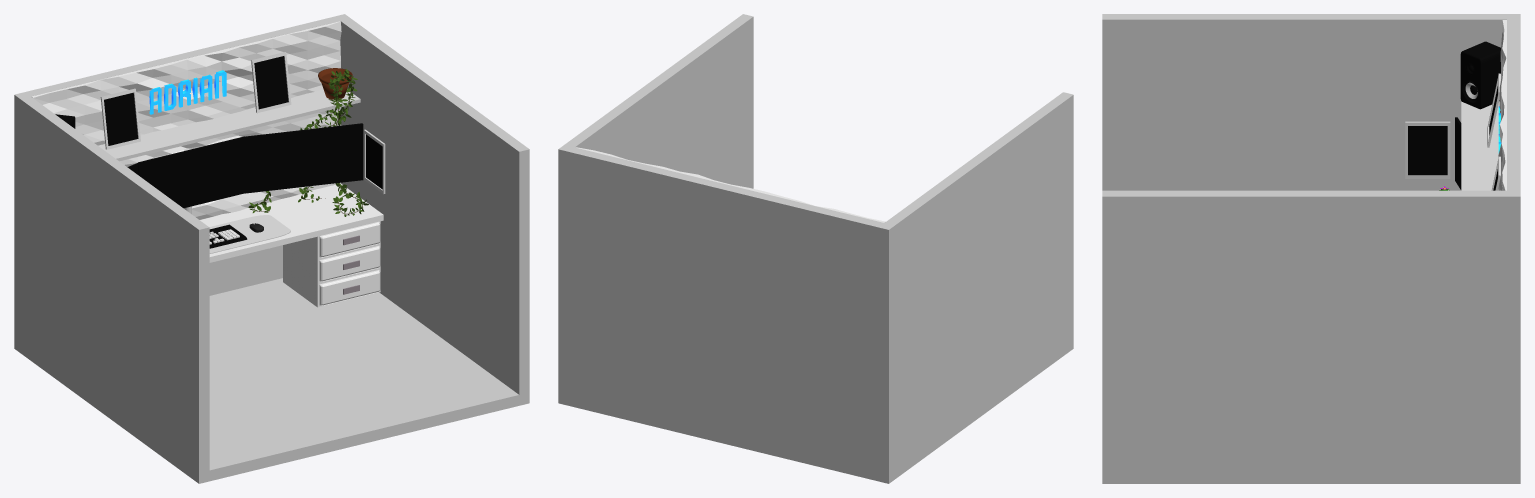
File: Desk3.glb
The picture shows the model from 3 angles, left to right: view 1: azimuth 30°, elevation 25°; view 2: azimuth 150°, elevation 25°; view 3: azimuth 270°, elevation 25°; orthographic projection. The views are drawn at different scales.
Parts seen in each view (by area): view 1: Room, WallDecoration, Drawer.001, MonitorScreen.002, Desk, MonitorScreen.001, PaintingShelf, Painting.001, Painting, Text, MousePad, Painting.003 (+3 smaller); view 2: Room, WallDecoration; view 3: Room, PaintingShelf, Painting.002, Cube, WallDecoration.
Part boxes in pixels (left/top/right/bottom): Room: left=14, top=14, right=529, bottom=483; WallDecoration: left=31, top=21, right=341, bottom=219; Drawer.001: left=283, top=221, right=380, bottom=307; MonitorScreen.002: left=247, top=125, right=361, bottom=191; Desk: left=200, top=183, right=383, bottom=262; MonitorScreen.001: left=141, top=139, right=243, bottom=207; PaintingShelf: left=98, top=89, right=360, bottom=161; Painting.001: left=251, top=52, right=291, bottom=112; Painting: left=100, top=88, right=140, bottom=149; Text: left=149, top=70, right=226, bottom=114; MousePad: left=209, top=215, right=290, bottom=253; Painting.003: left=364, top=129, right=385, bottom=193; Room: left=558, top=14, right=1073, bottom=483; WallDecoration: left=575, top=147, right=885, bottom=222; Room: left=1102, top=14, right=1520, bottom=483; PaintingShelf: left=1461, top=101, right=1499, bottom=190; Painting.002: left=1405, top=121, right=1450, bottom=178; Cube: left=1460, top=41, right=1500, bottom=109; WallDecoration: left=1498, top=20, right=1506, bottom=190.
Bounding box in the file's own units: 8.54 × 6.27 × 8.27.
Materials: 22 (2 with a texture image).
